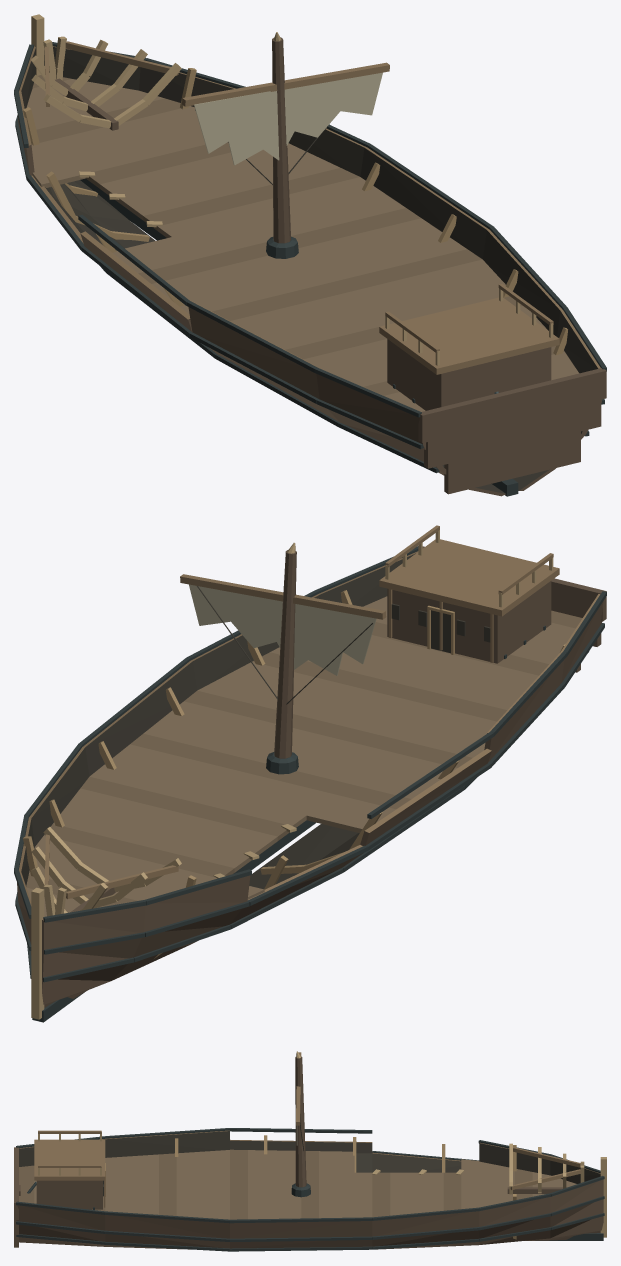
The model's file is SW_Map_WreckMarker.fbx.
The picture shows the model from 3 angles, top to bottom: view 1: azimuth 30°, elevation 25°; view 2: azimuth 150°, elevation 25°; view 3: azimuth 270°, elevation 25°; orthographic projection. The views are drawn at different scales.
Parts seen in each view (by area): view 1: SW_Map_WreckMarker; view 2: SW_Map_WreckMarker; view 3: SW_Map_WreckMarker.
Part boxes in pixels (bbox=[...]): SW_Map_WreckMarker: bbox=[14, 14, 606, 496]; SW_Map_WreckMarker: bbox=[14, 525, 606, 1022]; SW_Map_WreckMarker: bbox=[14, 1051, 606, 1251].
Bounding box in the file's own units: 0.6056 × 0.5623 × 1.63.
